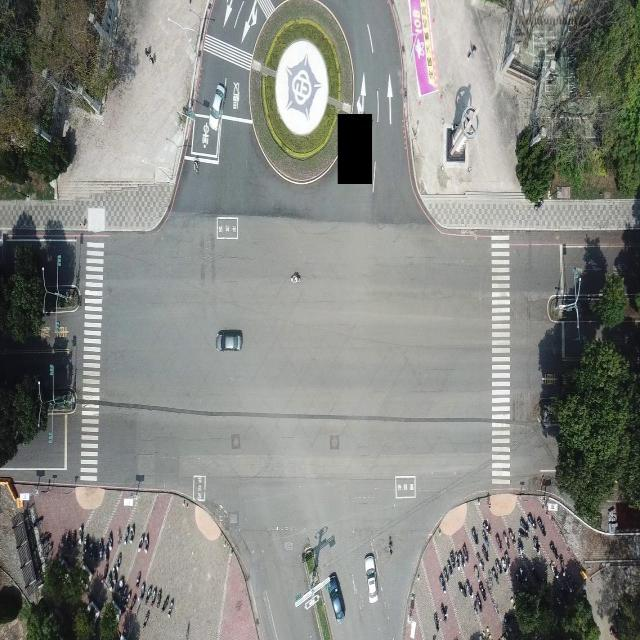bike: (288, 269, 309, 291)
car: (328, 570, 346, 622), (209, 81, 226, 129), (215, 327, 243, 352), (364, 552, 378, 600)
